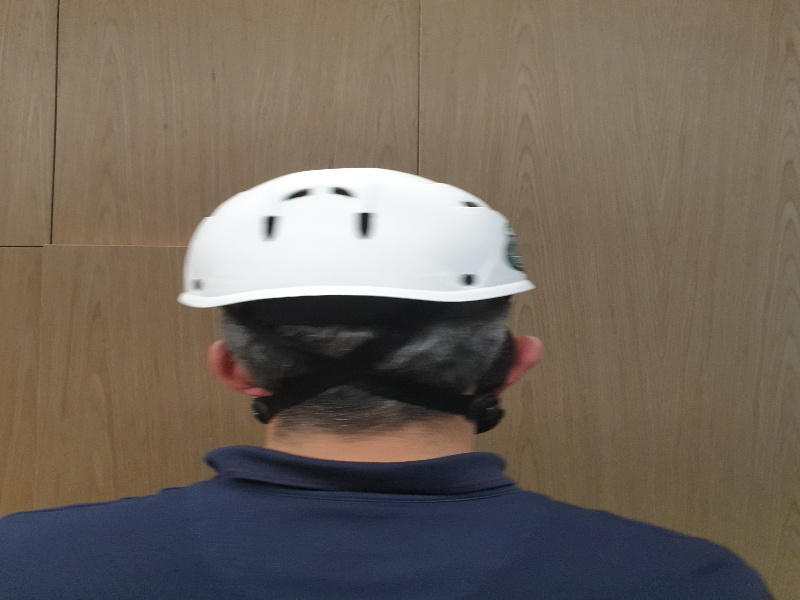Baret: (173, 168, 537, 307)
